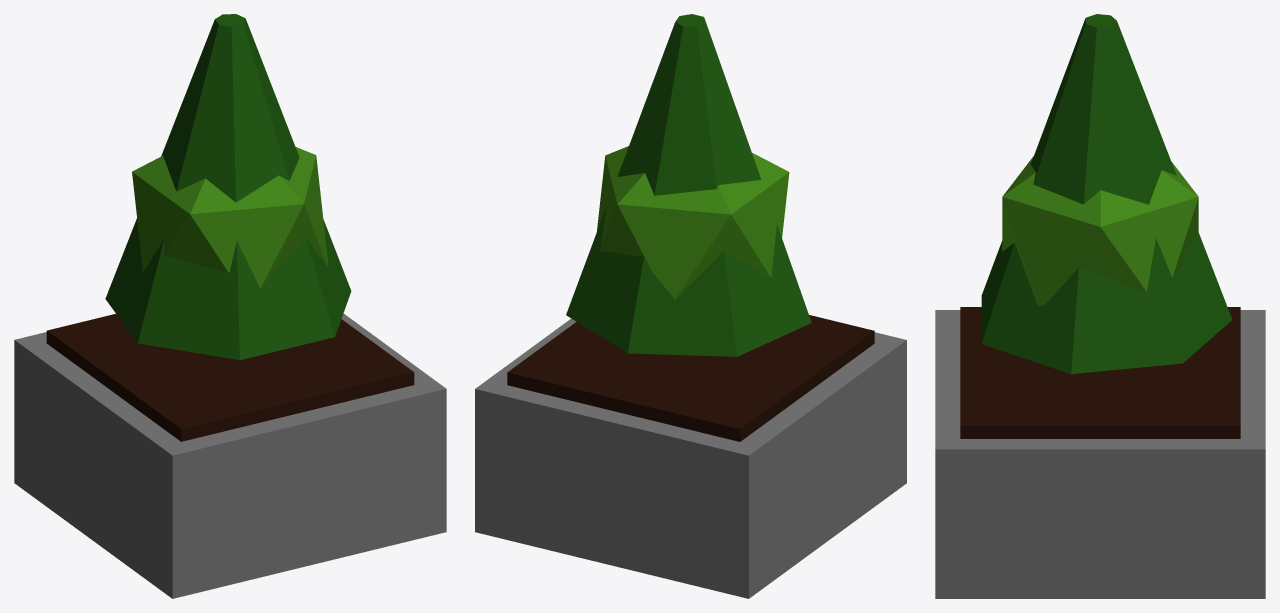
File: sidewalk_planter.obj
3 renders of one model, left to right at view 1: azimuth 30°, elevation 25°; view 2: azimuth 150°, elevation 25°; view 3: azimuth 270°, elevation 25°, orthographic. The views are drawn at different scales.
Parts seen in each view (by area): view 1: sidewalk_planter; view 2: sidewalk_planter; view 3: sidewalk_planter.
Boxes of the visible parts, bbox=[...] form: sidewalk_planter: bbox=[14, 14, 446, 598]; sidewalk_planter: bbox=[475, 14, 906, 598]; sidewalk_planter: bbox=[935, 14, 1265, 598].
Size of the model in its own units: 1 by 1.7 by 1.
